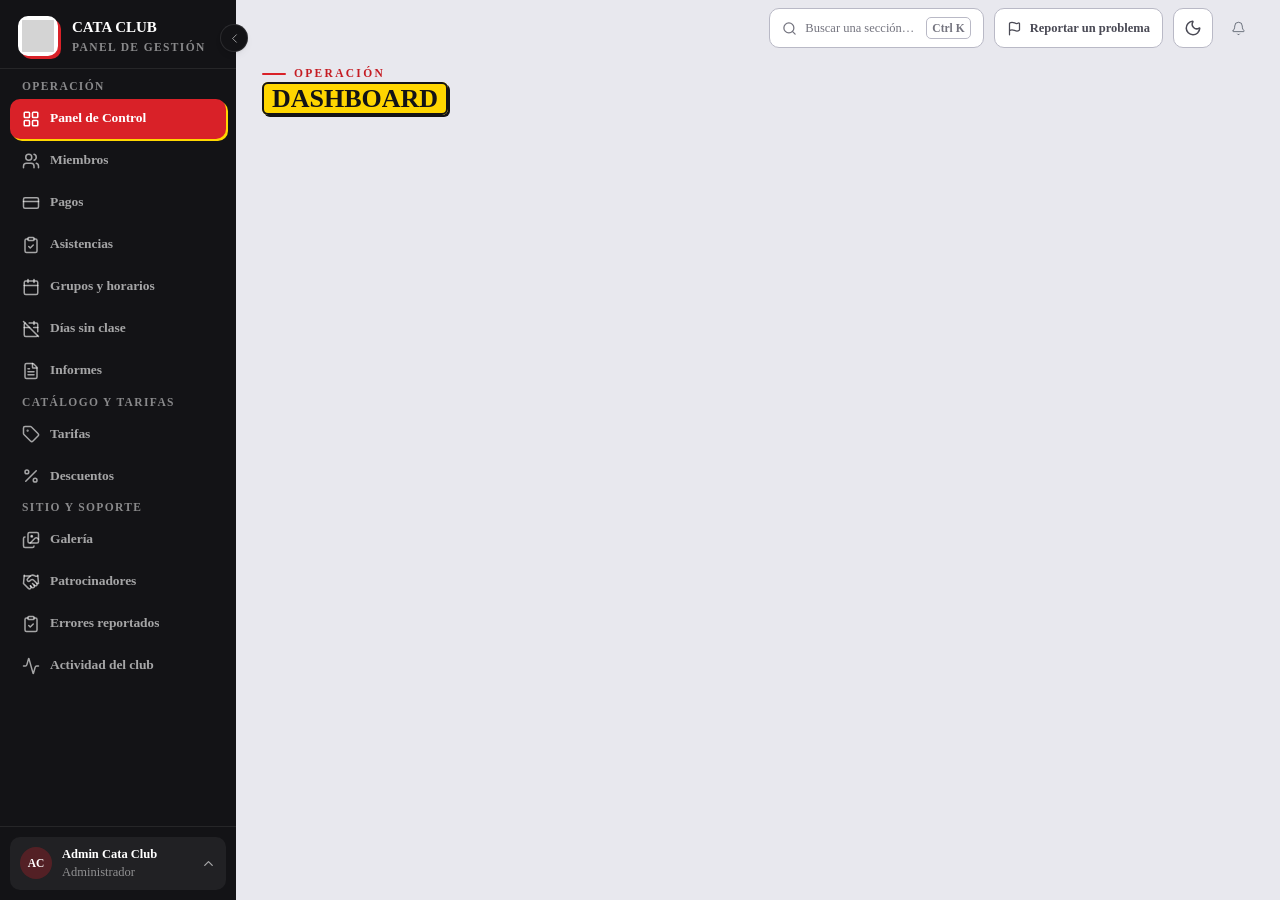
Test: AppShell › keeps Perfil, Ayuda and Cerrar sesión out of the rail until the menu is opened
expect the link "Perfil" is not shown: met
expect the link "Ayuda" is not shown: met
Click the button with aria-label "Menú de cuenta de": (118, 863) x1=10 y1=836 x2=226 y2=890
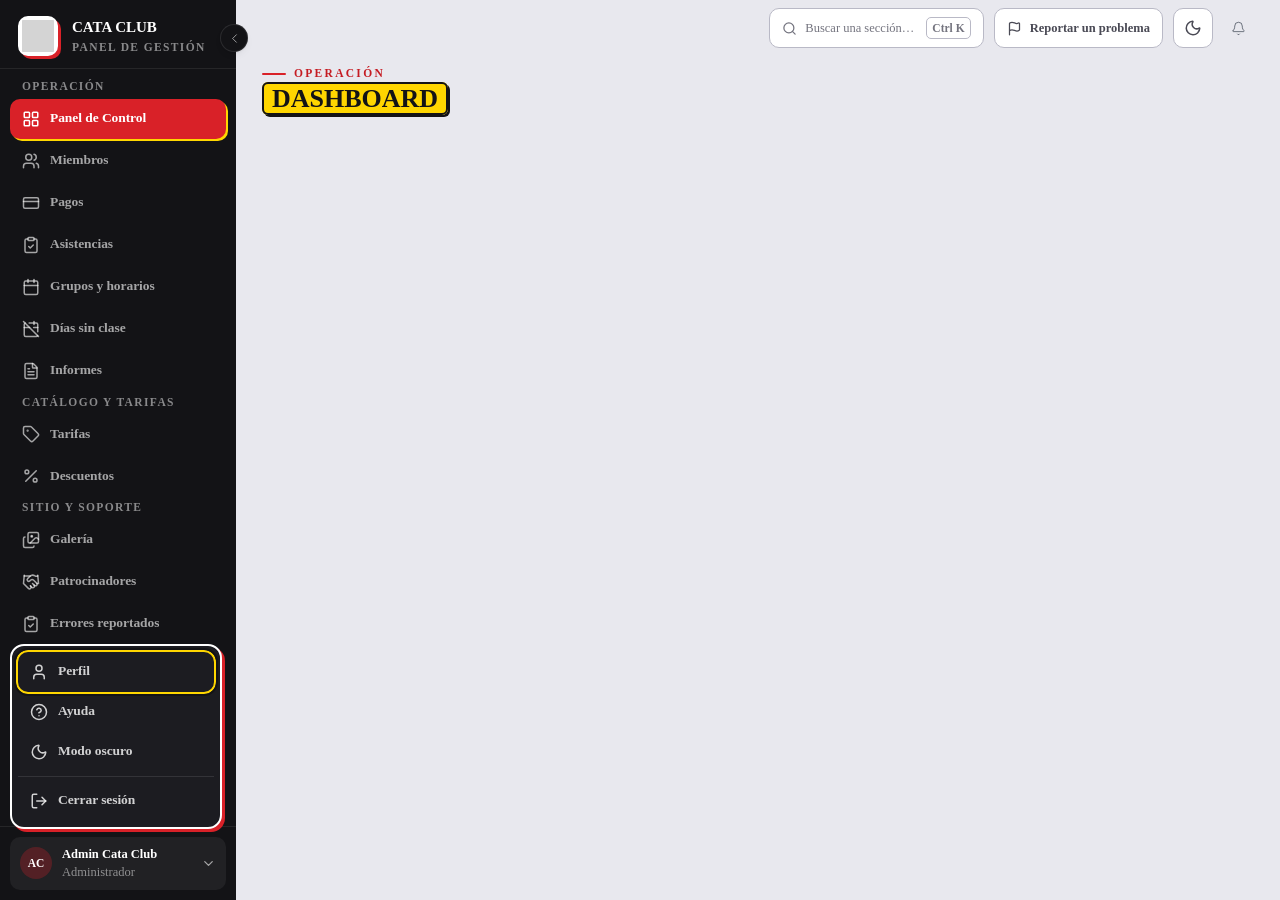
expect the button "Cerrar sesión" is shown: met, box x1=18 y1=780 x2=214 y2=820
